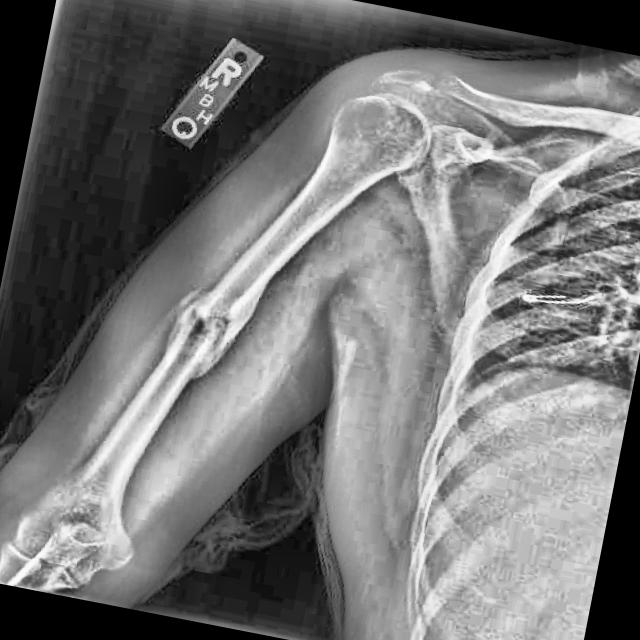humerus: (102, 266, 294, 438)
